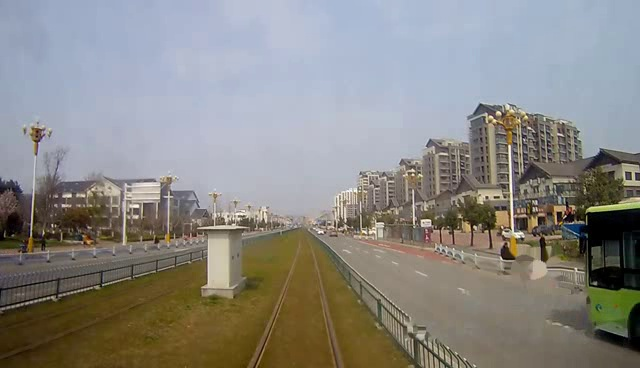bus: (581, 200, 640, 353)
